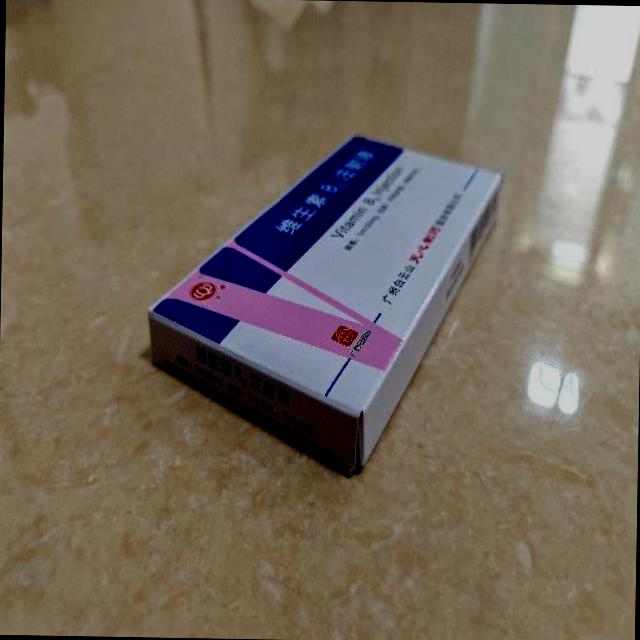box: (146, 132, 507, 476)
